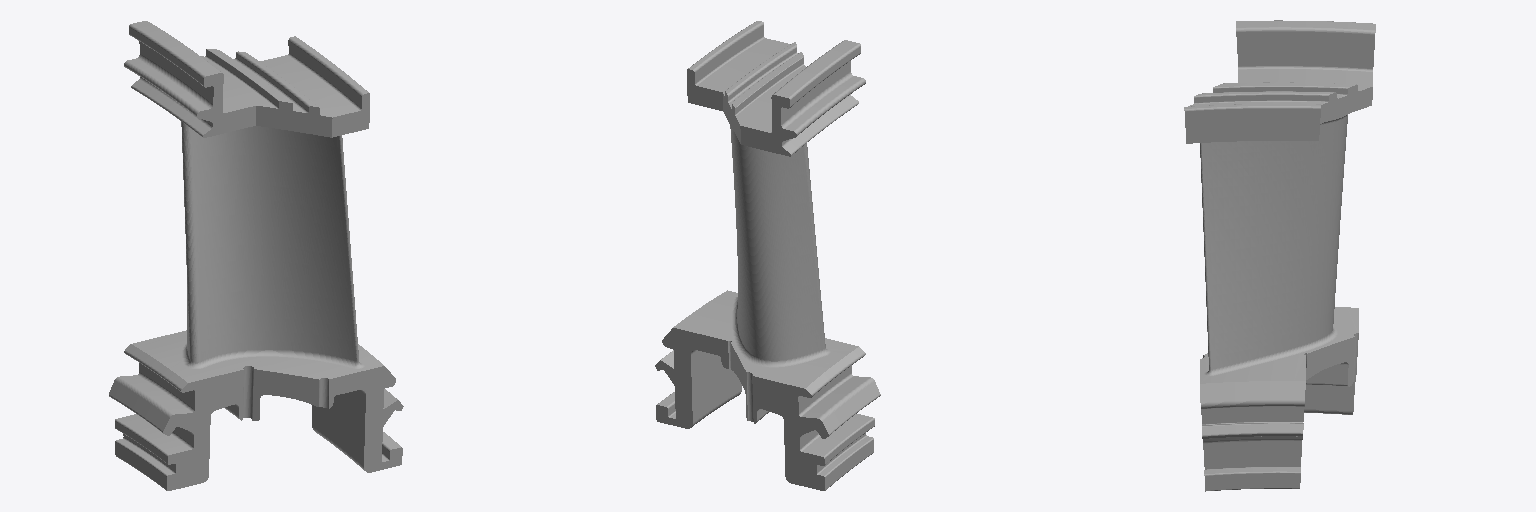
robot.urdf — myobj:
<robot name="myobj">
  <link name="tray_base_link">
    <contact>
      <lateral_friction value="0.5"/>
      <rolling_friction value="0.0"/>
      <contact_cfm value="0.0"/>
      <contact_erp value="1.0"/>
    </contact>
    <inertial>
      <origin rpy="0 0 0" xyz="0 0 0"/>
      <mass value="0"/>
      <inertia ixx="0" ixy="0" ixz="0" iyy="0" iyz="0" izz="0"/>
    </inertial>
    <visual>
      <origin rpy="0 0 0" xyz="0 0 0"/>
      <geometry>
        <mesh filename="../mould/blade3.obj" scale="0.0012 0.0012 0.0012"/>
      </geometry>
      <material name="tray_material">
        <color rgba="0.7 0.7 0.7 1"/>
      </material>
    </visual>
    <collision>
      <origin rpy="0 0 0" xyz="0 0 0"/>
      <geometry>
        <mesh filename="../mould/blade3.obj" scale="0.0012 0.0012 0.0012"/>
      </geometry>
    </collision>
  </link>
</robot>

--- Facts derived from the render (not from the file) ---
3 views of the same robot in one strip: view 1: azimuth 30°, elevation 25°; view 2: azimuth 150°, elevation 25°; view 3: azimuth 270°, elevation 25° (orthographic).
Robot: myobj — 1 links, 0 joints (none); root link tray_base_link; default pose: all joints at 0.
Visible links, largest first — view 1: tray_base_link; view 2: tray_base_link; view 3: tray_base_link.
Boxes of the visible links, x1=… form: tray_base_link: x1=109, y1=21, x2=403, y2=490; tray_base_link: x1=655, y1=21, x2=880, y2=490; tray_base_link: x1=1184, y1=20, x2=1375, y2=491.
Size in the robot's own frame: 0.2687 by 0.2261 by 0.5092 metres.
Meshes: 1 distinct files referenced, 1 mesh visuals loaded (1 OBJ).